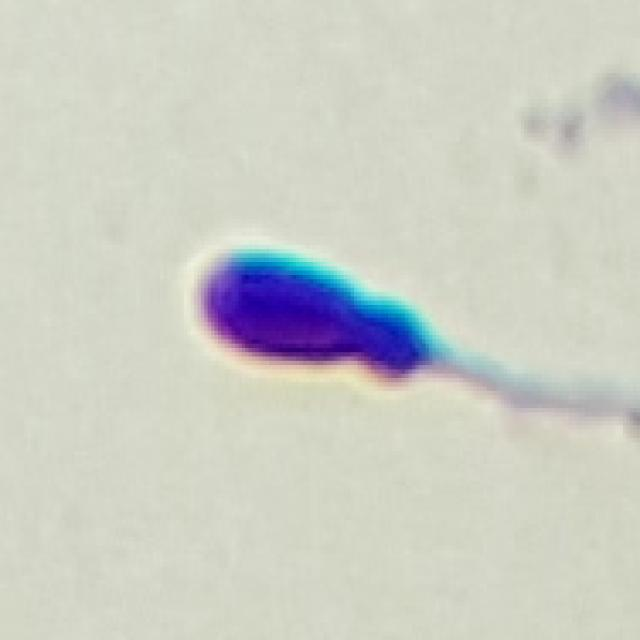abnormal sperm: (186, 235, 540, 412)
